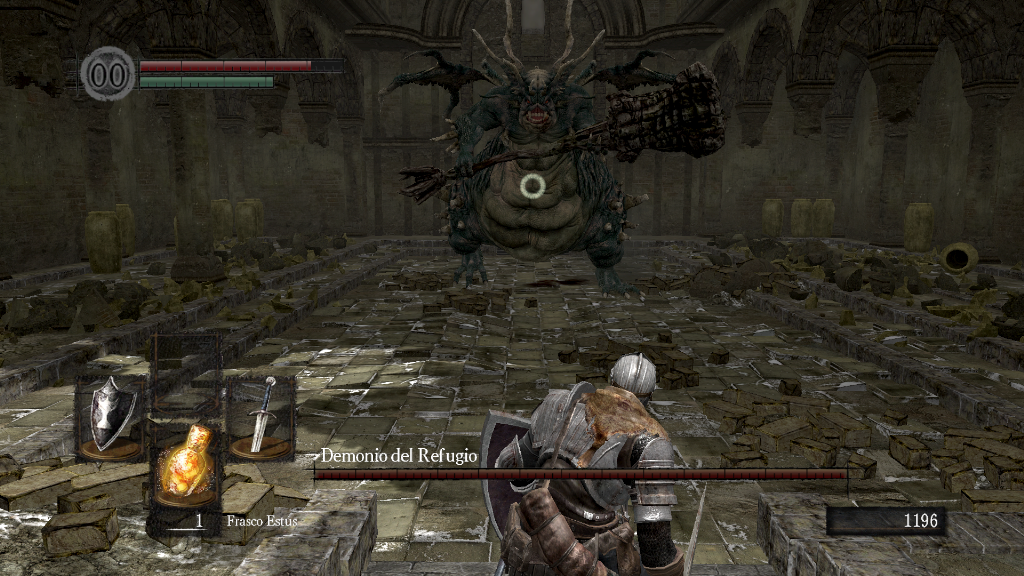asylumDemon: (372, 2, 732, 300)
bossHP: (314, 469, 847, 479)
health: (138, 58, 343, 71)
humanity: (80, 45, 136, 102)
player: (476, 353, 709, 576)
souls: (825, 506, 945, 536)
stamina: (138, 74, 274, 88)
